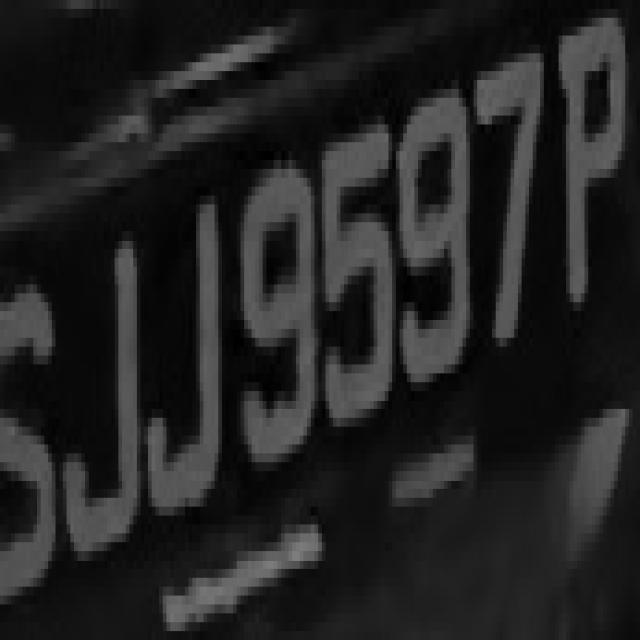5: (314, 116, 400, 453)
7: (462, 53, 548, 364)
9: (226, 151, 326, 498), (388, 98, 488, 418)
J: (140, 213, 237, 542), (67, 240, 159, 569)
P: (551, 45, 633, 311)
